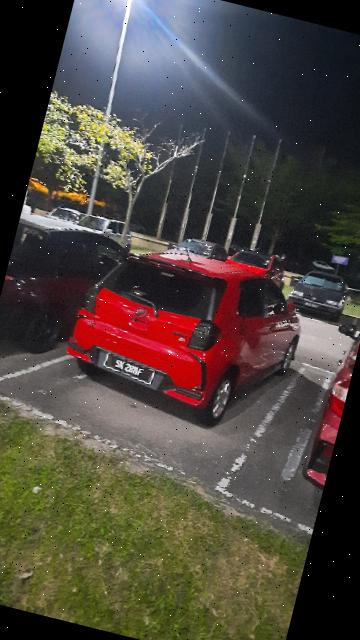License_Plate: (100, 349, 159, 392)
car: (53, 227, 324, 449), (1, 204, 172, 391)
